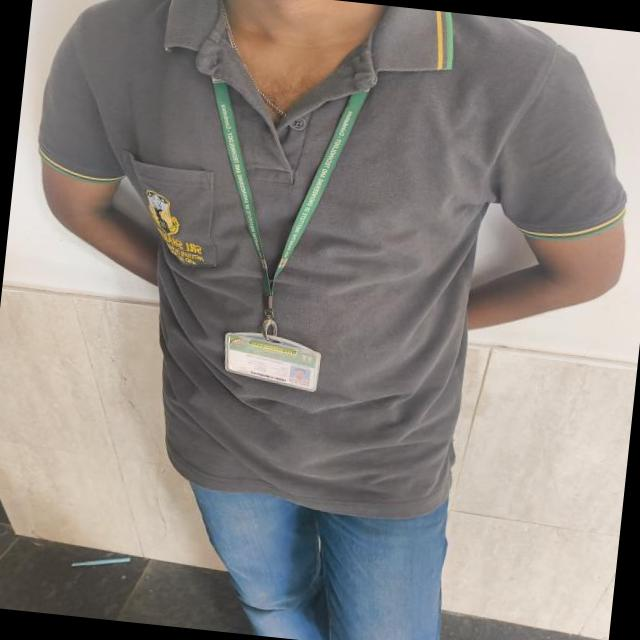id_card: (188, 79, 369, 392)
